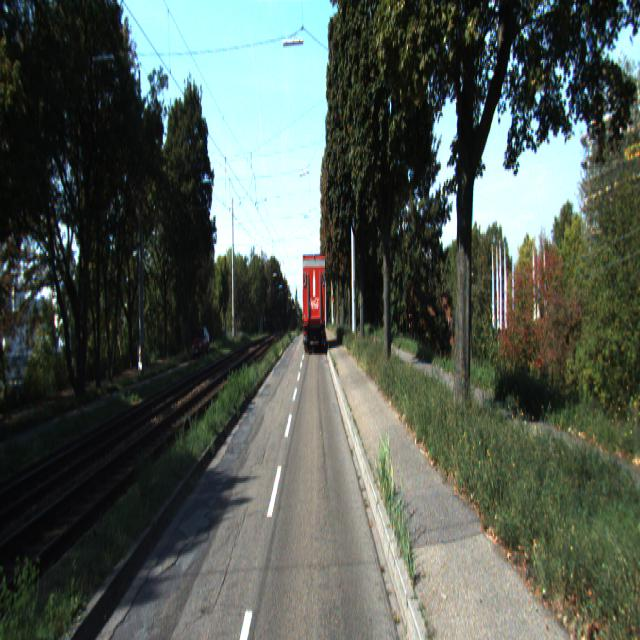Car: (300, 248, 326, 352), (190, 324, 210, 359)
